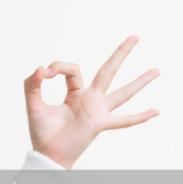left: (23, 33, 162, 158)
